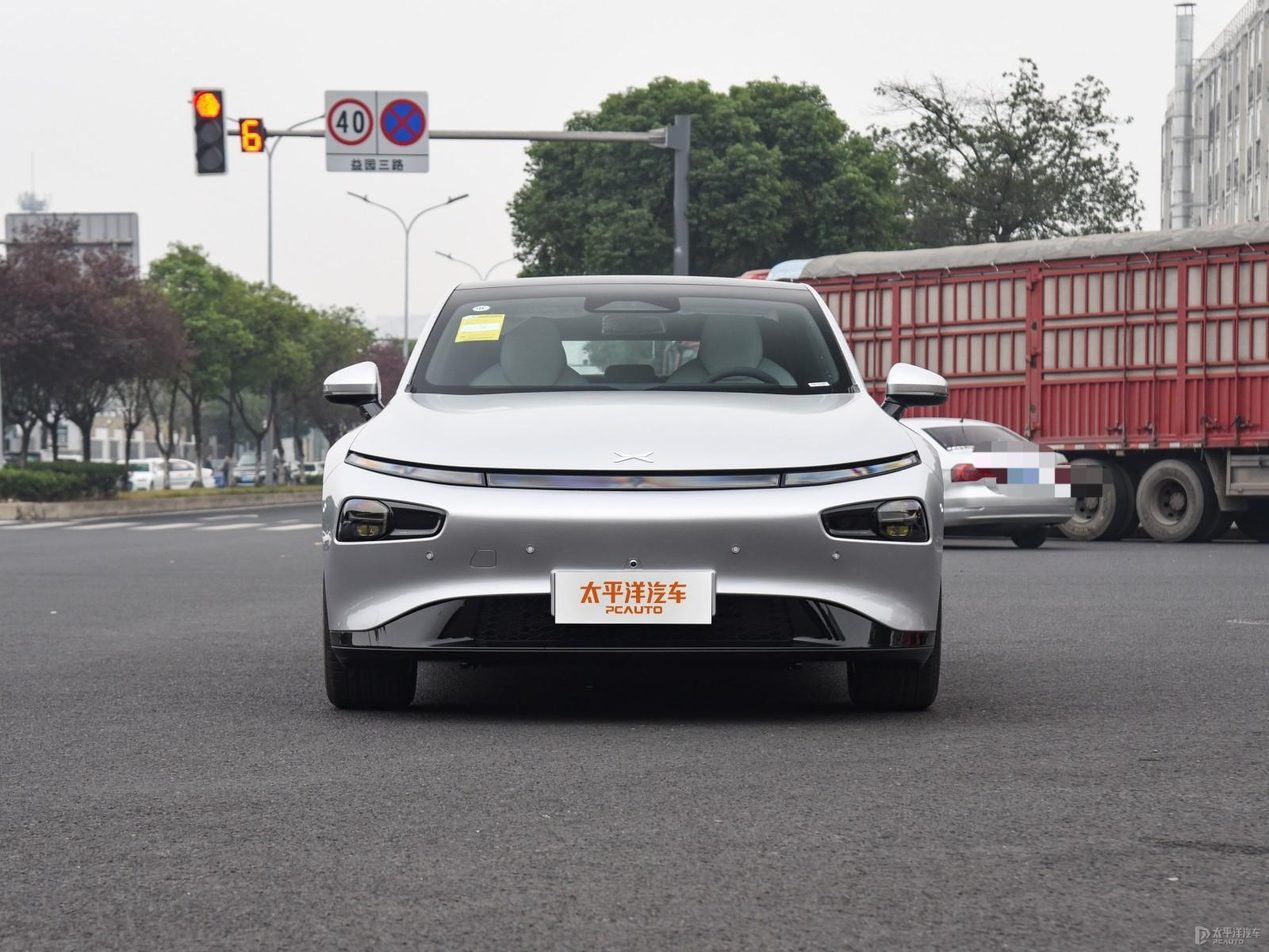XPeng Motors: (613, 451, 654, 463)
